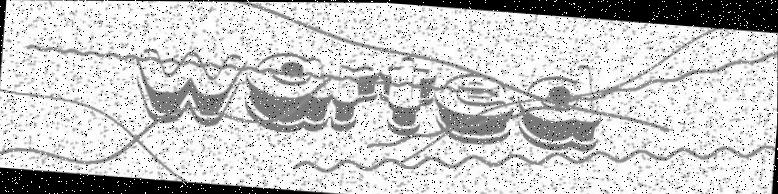a: (242, 44, 336, 134)
d: (511, 56, 613, 155)
e: (433, 66, 519, 147)
r: (327, 55, 381, 135)
t: (378, 51, 440, 138)
w: (127, 40, 249, 128)
